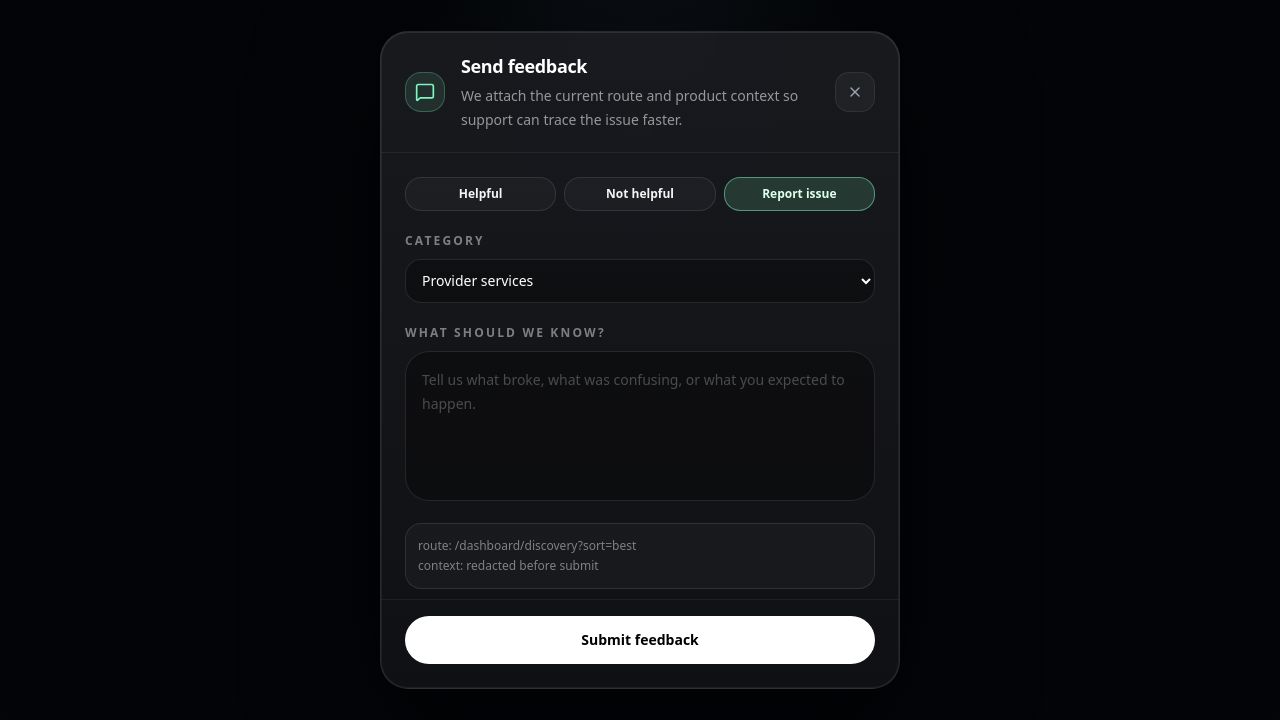
Test: FeedbackDrawer › submits feedback and redacts sensitive context before sending
The width and height of the screenshot is (1280, 720).
Expected: the element with test id "feedback-modal" is shown, top-left (380, 31), bottom-right (900, 689)
Type "Discovery service card does not open." into the text box with placeholder "Tell us what broke".
click(640, 426); type("Discovery service card does not open.")  # box top-left (405, 351), bottom-right (875, 501)
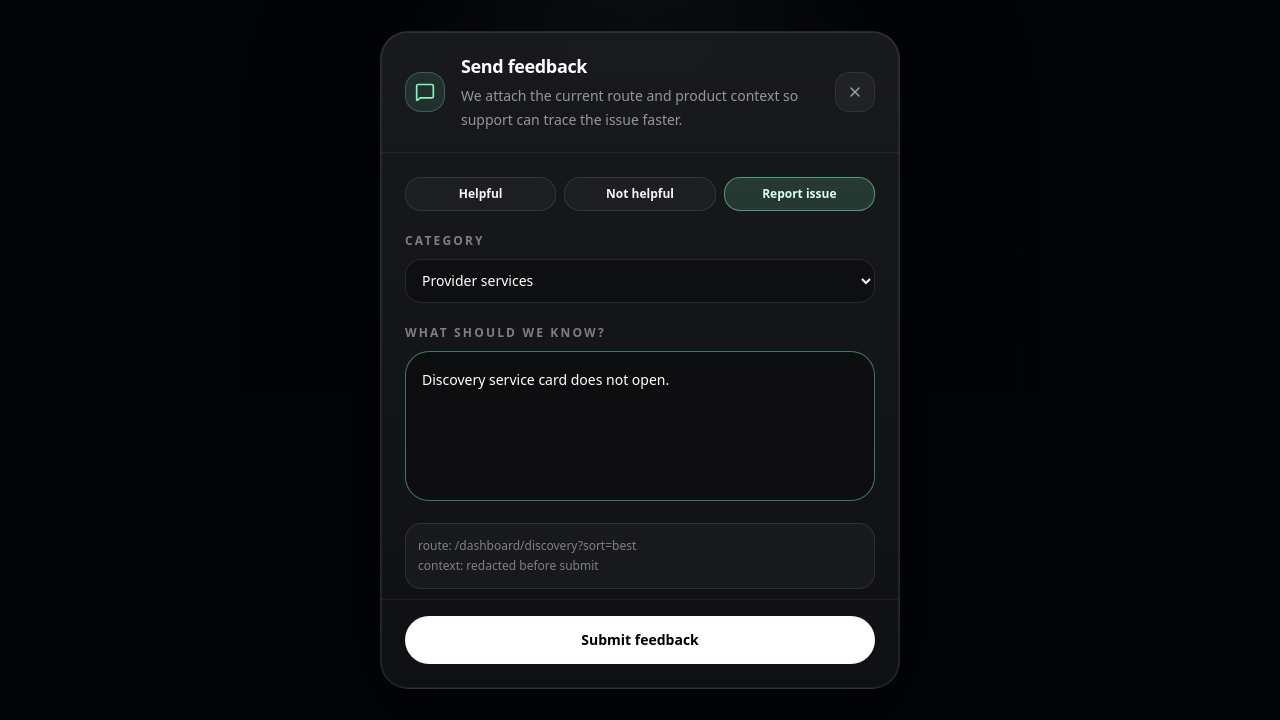
Click the button "Submit feedback".
click(640, 640)  # box top-left (405, 616), bottom-right (875, 664)
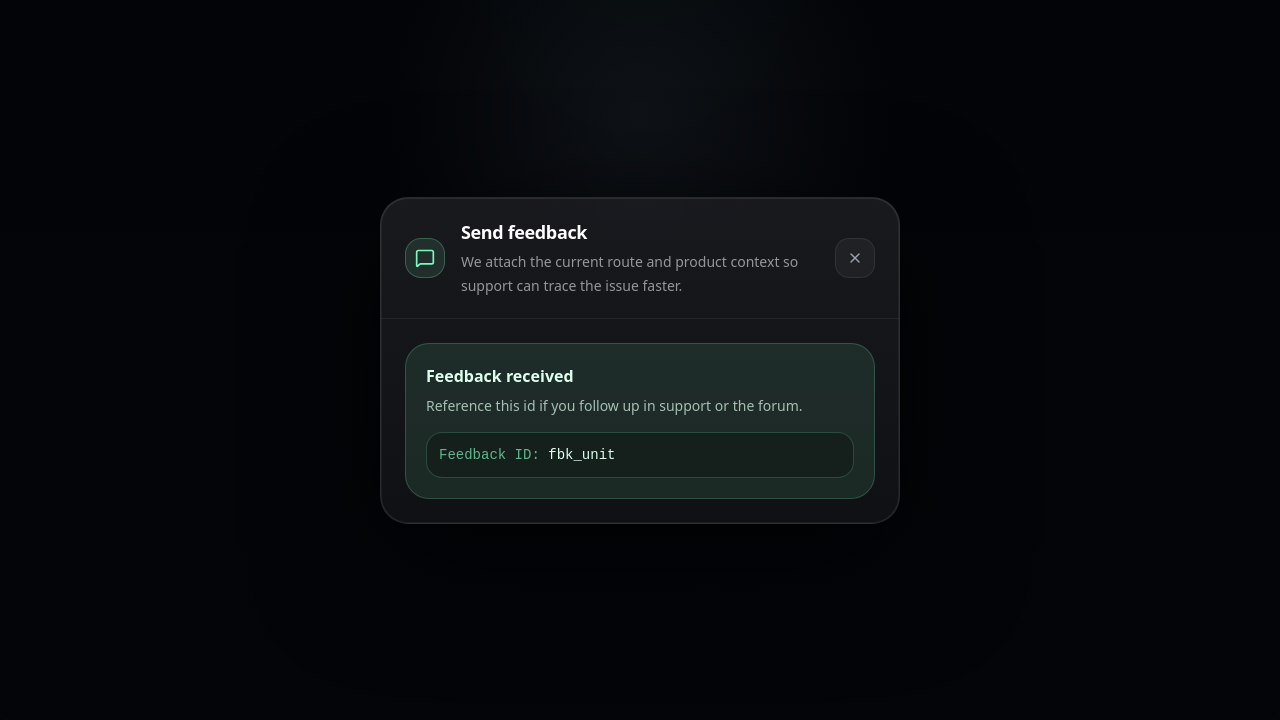
Now the element with test id "feedback-id" shows "fbk_unit", box top-left (548, 446), bottom-right (615, 462)
